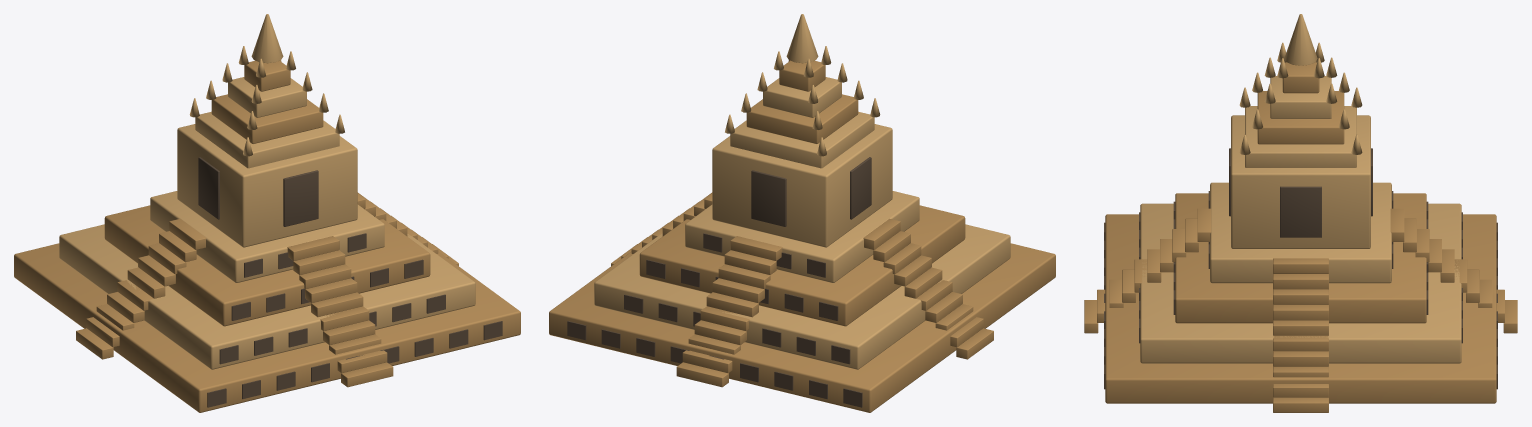
The model's file is candi.glb.
The picture shows the model from 3 angles, left to right: view 1: azimuth 30°, elevation 25°; view 2: azimuth 150°, elevation 25°; view 3: azimuth 270°, elevation 25°; orthographic projection. The views are drawn at different scales.
Visible parts, largest first — view 1: Cube, Cube.019, Cube.096, Cube.034, Cube.047, Cube.101, Cube.102, Cube.103, Cube.097, Cube.098, Cube.104, Cone.016 (+20 smaller); view 2: Cube, Cube.019, Cube.096, Cube.034, Cube.047, Cube.101, Cube.102, Cube.103, Cube.099, Cube.098, Cube.104, Cone.016 (+20 smaller); view 3: Cube, Cube.019, Cube.034, Cube.096, Cube.047, Cube.101, Cube.102, Cube.100, Cube.103, Cone.016, Cube.104, Cube.070 (+23 smaller).
Part boxes in pixels (x1,y1,x2,y2): Cube: [14, 192, 520, 412]; Cube.019: [59, 224, 475, 369]; Cube.096: [177, 124, 357, 247]; Cube.034: [104, 205, 430, 326]; Cube.047: [150, 191, 384, 282]; Cube.101: [195, 111, 339, 168]; Cube.102: [211, 94, 323, 143]; Cube.103: [228, 77, 306, 117]; Cube.097: [283, 170, 318, 226]; Cube.098: [198, 157, 219, 219]; Cube.104: [244, 60, 290, 91]; Cone.016: [251, 14, 283, 63]; Cube: [549, 192, 1055, 412]; Cube.019: [594, 224, 1010, 369]; Cube.096: [712, 124, 892, 247]; Cube.034: [639, 205, 965, 326]; Cube.047: [685, 191, 919, 282]; Cube.101: [730, 111, 874, 168]; Cube.102: [746, 94, 858, 143]; Cube.103: [763, 77, 841, 117]; Cube.099: [751, 170, 786, 226]; Cube.098: [850, 157, 871, 219]; Cube.104: [779, 60, 825, 91]; Cone.016: [786, 14, 818, 63]; Cube: [1105, 214, 1496, 403]; Cube.019: [1140, 203, 1461, 363]; Cube.034: [1175, 193, 1426, 323]; Cube.096: [1231, 115, 1370, 248]; Cube.047: [1210, 182, 1391, 283]; Cube.101: [1245, 106, 1356, 167]; Cube.102: [1257, 91, 1344, 144]; Cube.100: [1280, 186, 1321, 237]; Cube.103: [1270, 76, 1331, 118]; Cone.016: [1284, 14, 1317, 65]; Cube.104: [1282, 62, 1319, 93]; Cube.070: [1273, 335, 1328, 351].
Size of the model in its own units: 31 by 24.25 by 31.
